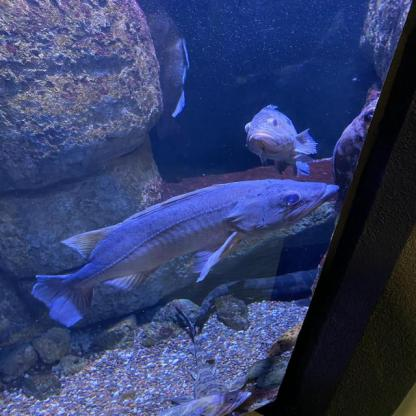fish: (32, 178, 340, 328), (333, 96, 383, 214), (244, 104, 317, 177), (152, 35, 188, 139), (157, 391, 253, 415)
shark: (192, 266, 325, 332), (171, 305, 247, 416)
